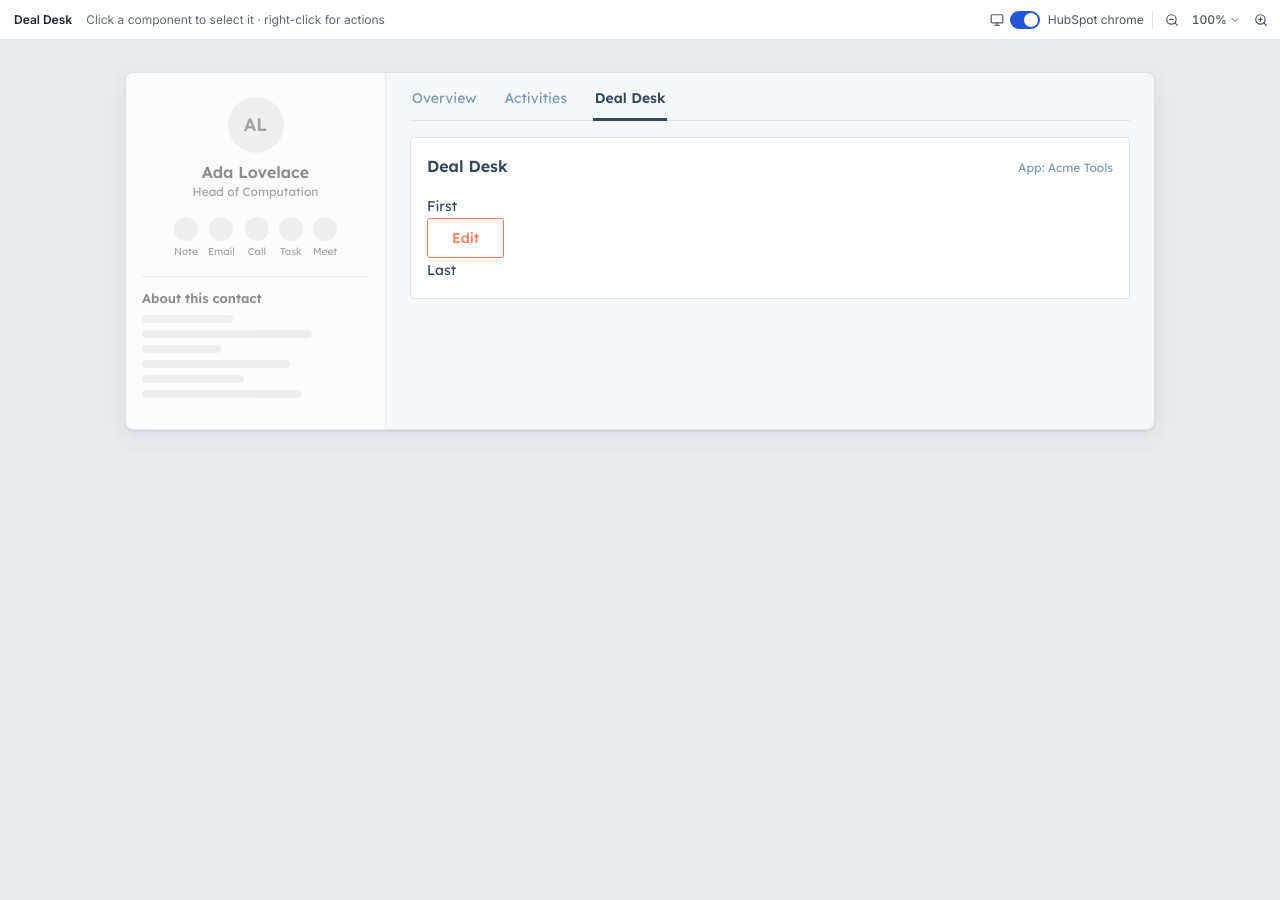
Test: context menu › opens on right-click, selects the node and duplicates it
The width and height of the screenshot is (1280, 900).
Right-click the text "First" at (442, 206), box [427,197,457,215]
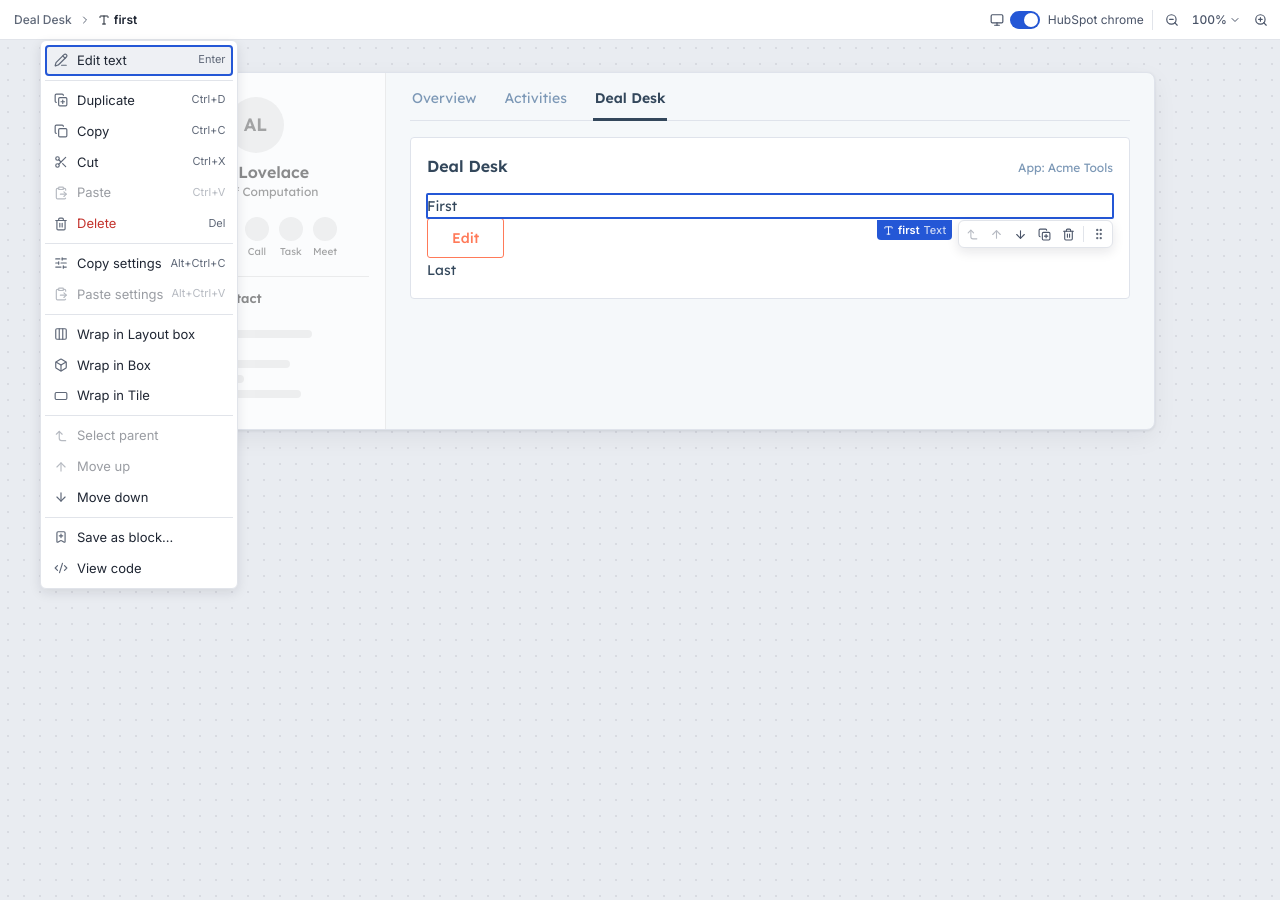
Click the menu item "Duplicate Ctrl+D". click: (139, 100)
box: [45,85,233,116]
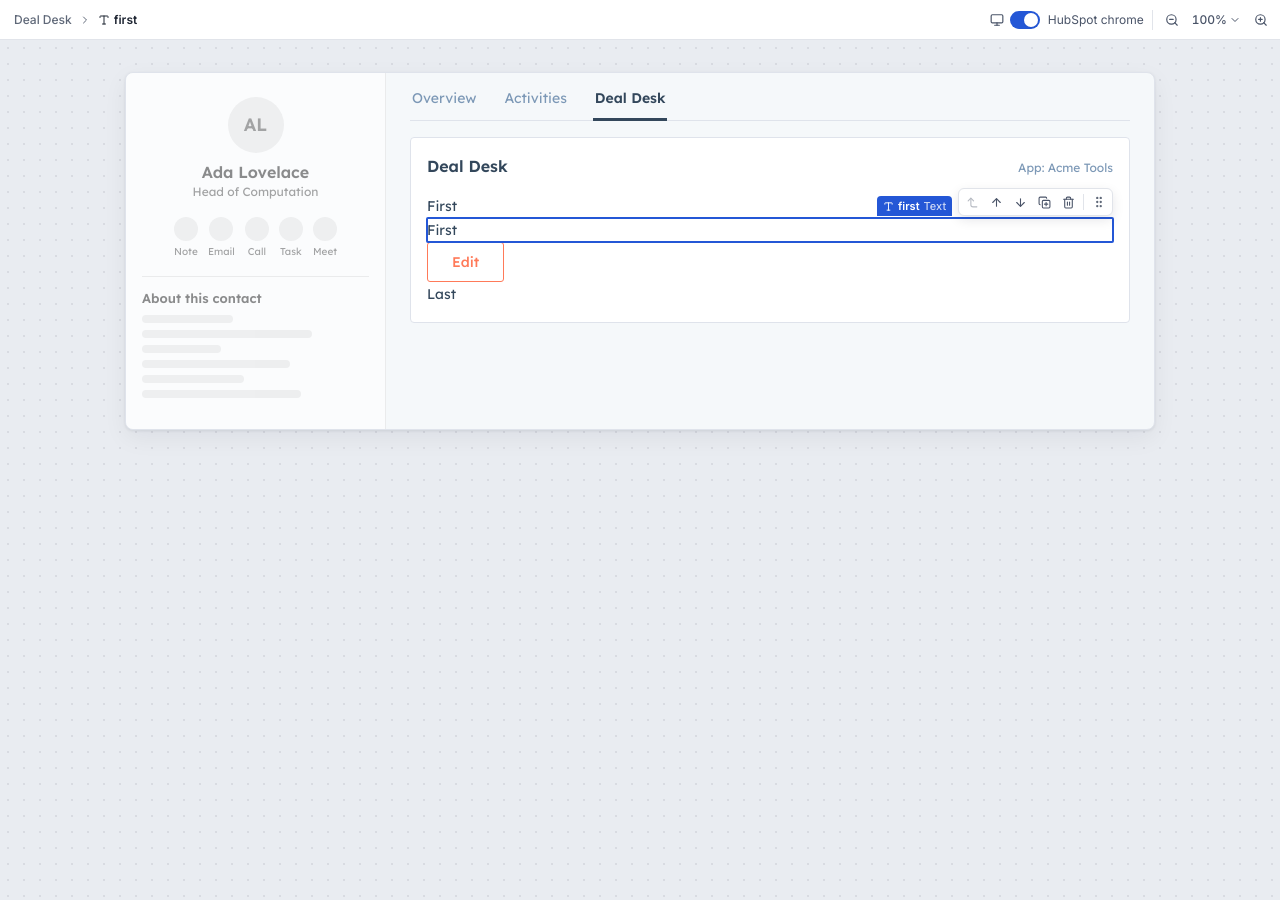
Now the menu is gone
